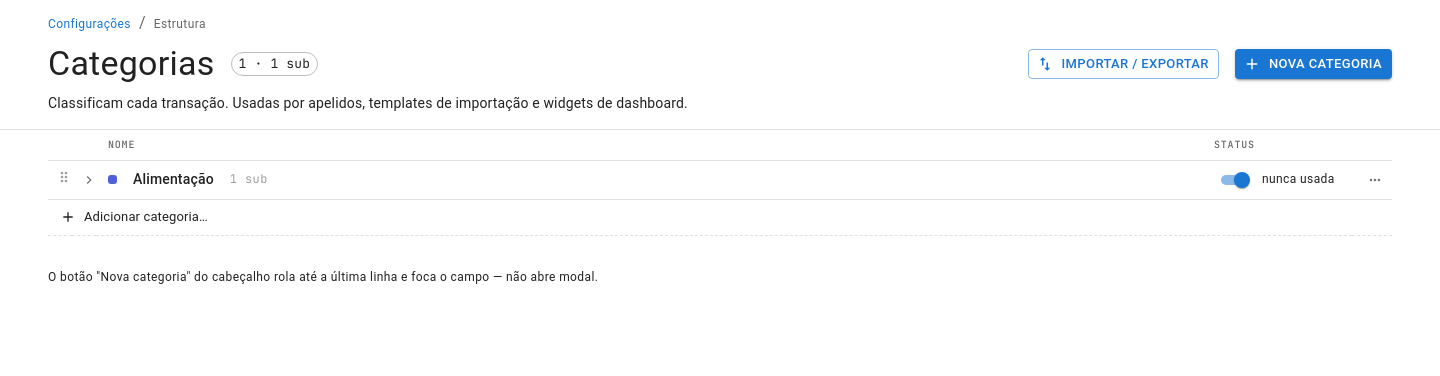
Scenario: CategoriesManager › expandir a categoria mostra a subcategoria sem coluna de seção (saiu da UI)
Click the button named "Expandir Alimentação".
click(89, 180)  # box x1=76 y1=166 x2=102 y2=192
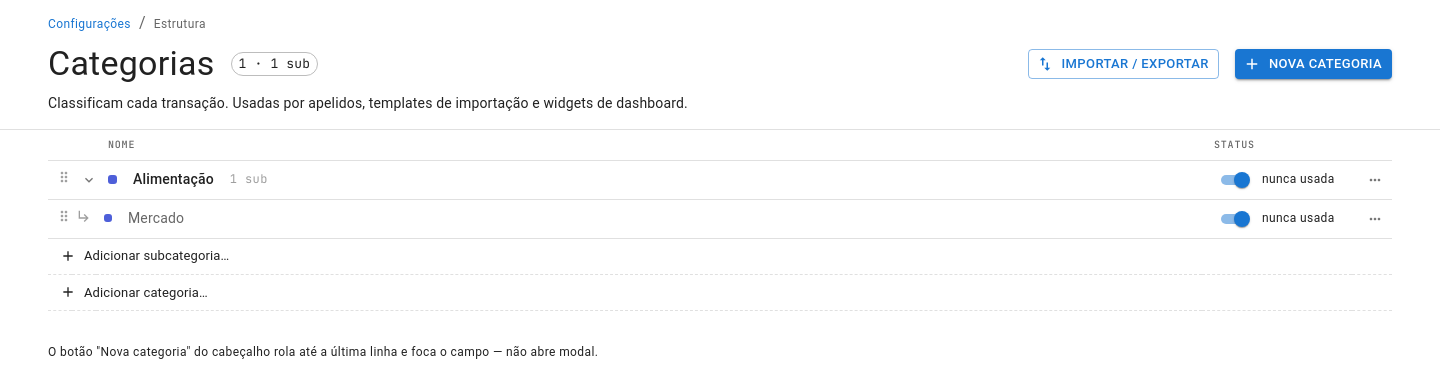
Result: the text "Mercado" is shown at x1=128 y1=208 x2=184 y2=228
